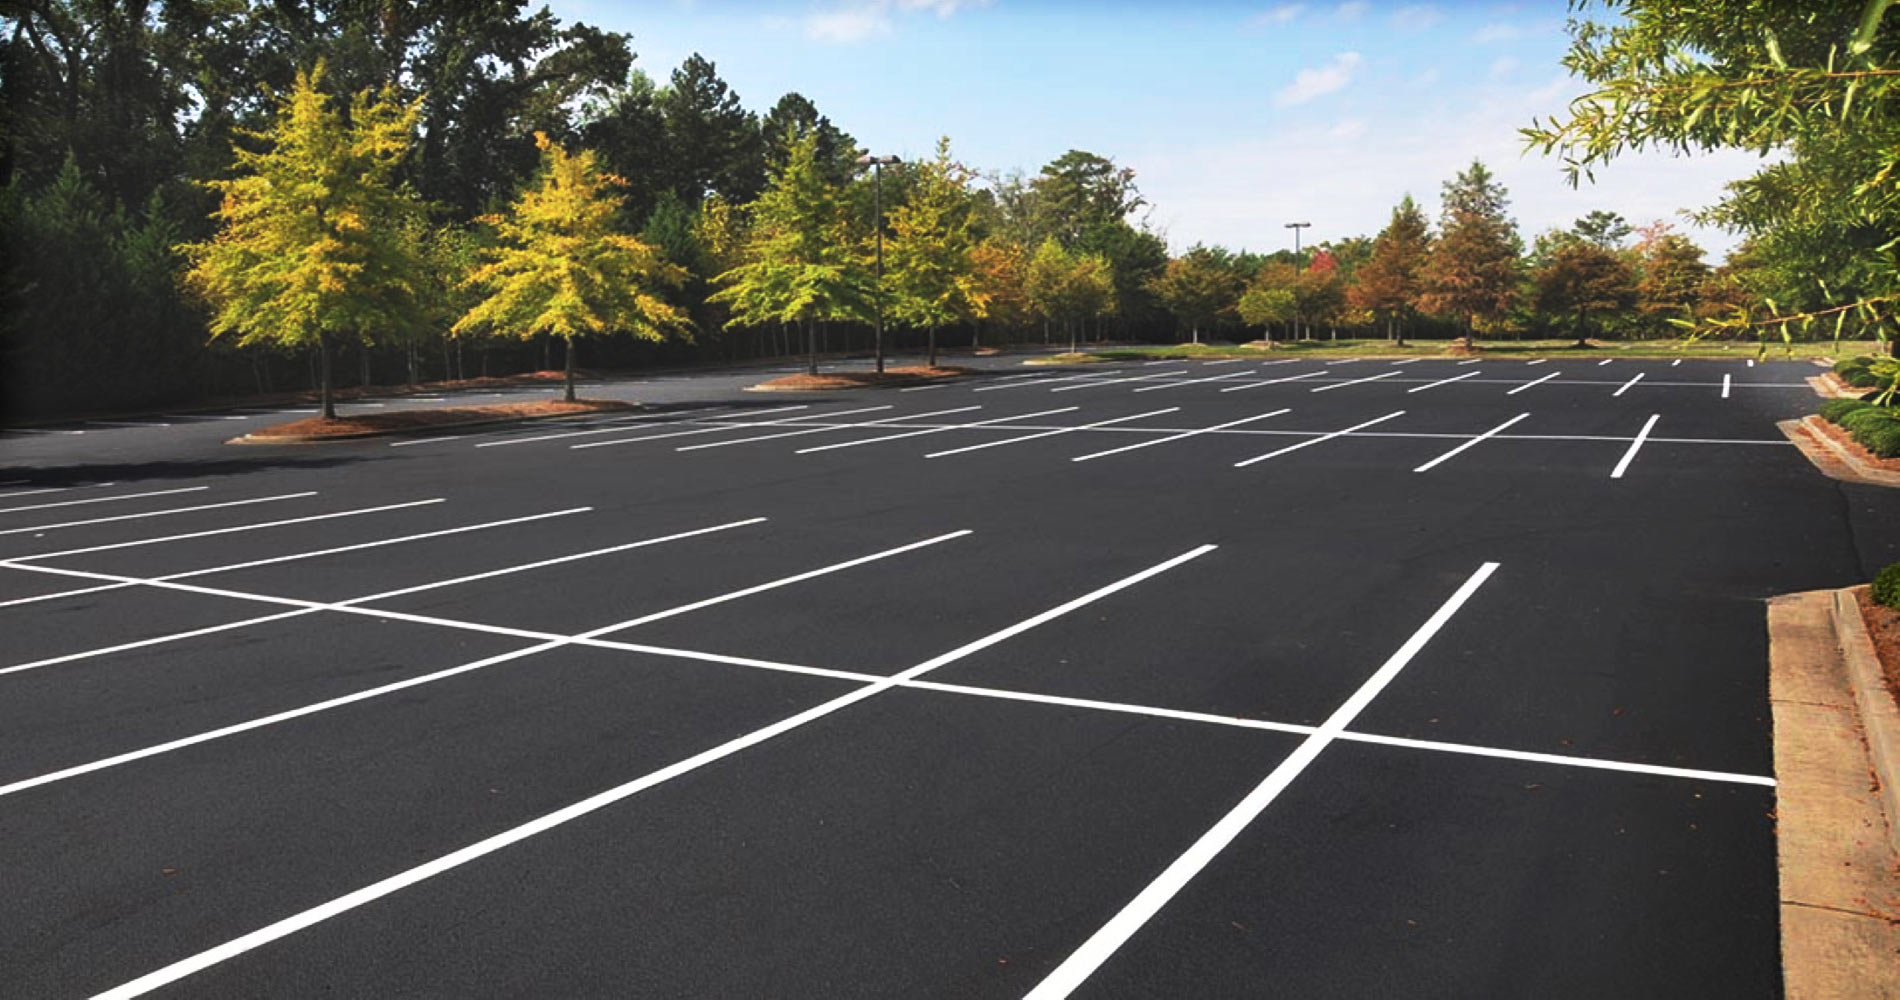dolu: (289, 683, 1384, 1000), (53, 643, 914, 1000), (1081, 715, 1838, 1000), (613, 531, 1216, 727), (1337, 557, 1786, 768), (346, 544, 970, 639), (1622, 438, 1804, 519), (1417, 441, 1642, 505)
